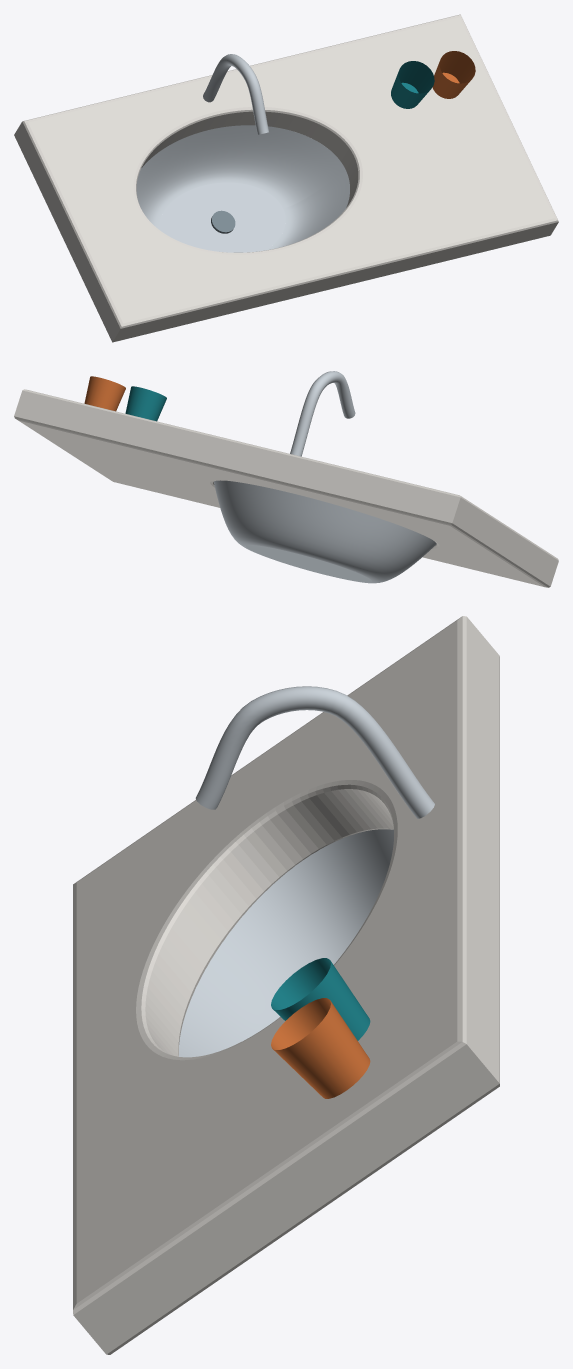
3 views of the same model, one above another, from view 1: azimuth 30°, elevation 25°; view 2: azimuth 150°, elevation 25°; view 3: azimuth 270°, elevation 25° (orthographic). The views are drawn at different scales.
Bounding box in the file's own units: 1.02 × 0.4569 × 0.4287.
